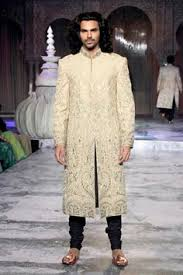Indian_Male: (77, 13, 110, 50)
